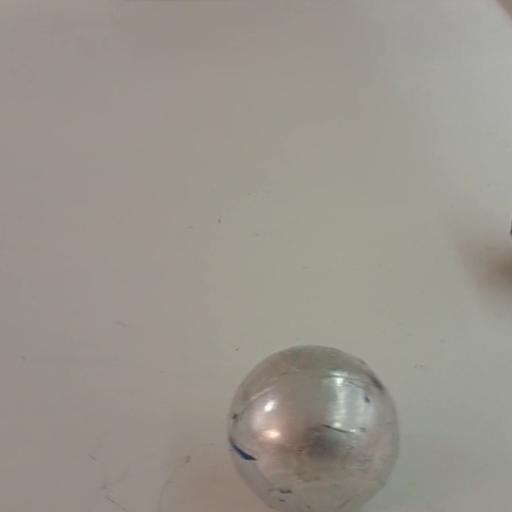alive: (223, 341, 404, 512)
